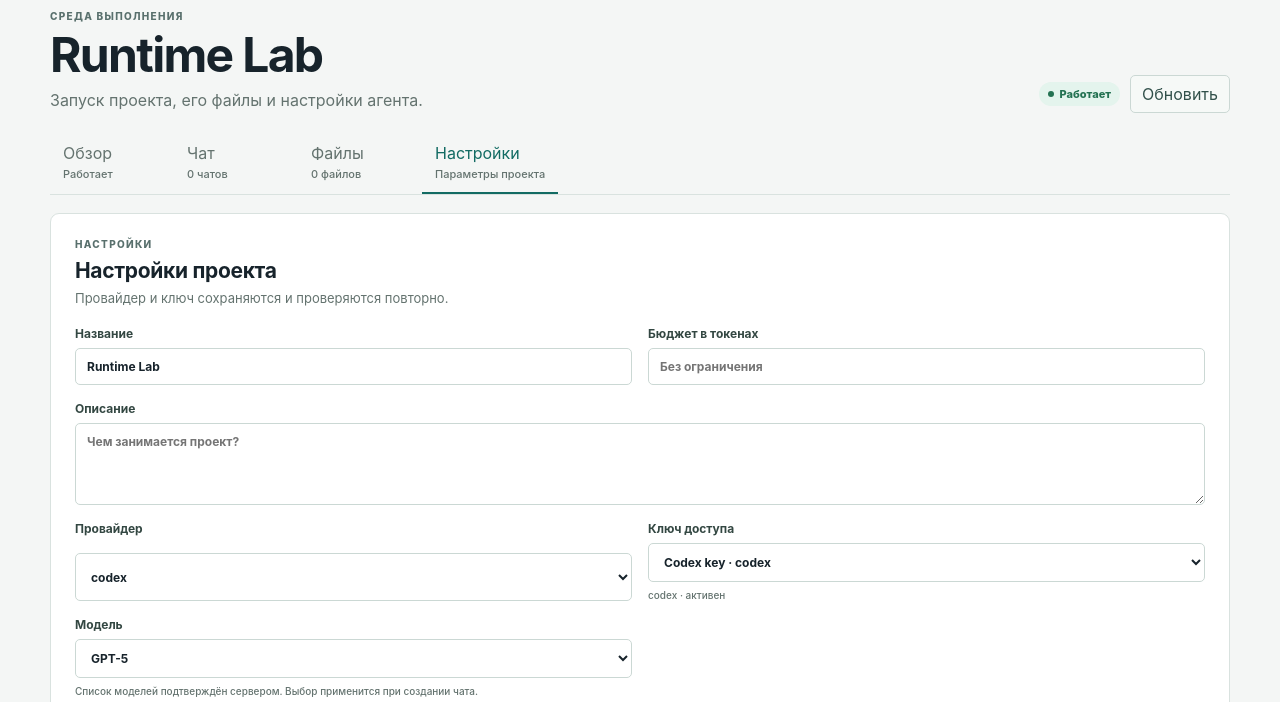
Test case: ProjectRuntime component workflow › requires an explicit live model choice before creating a new chat session
Later steps or results of the test are not shown.
Select "GPT-5" in the 3rd dropdown. click: (354, 659)
box: left=75, top=639, right=632, bottom=678
(page scrolled)
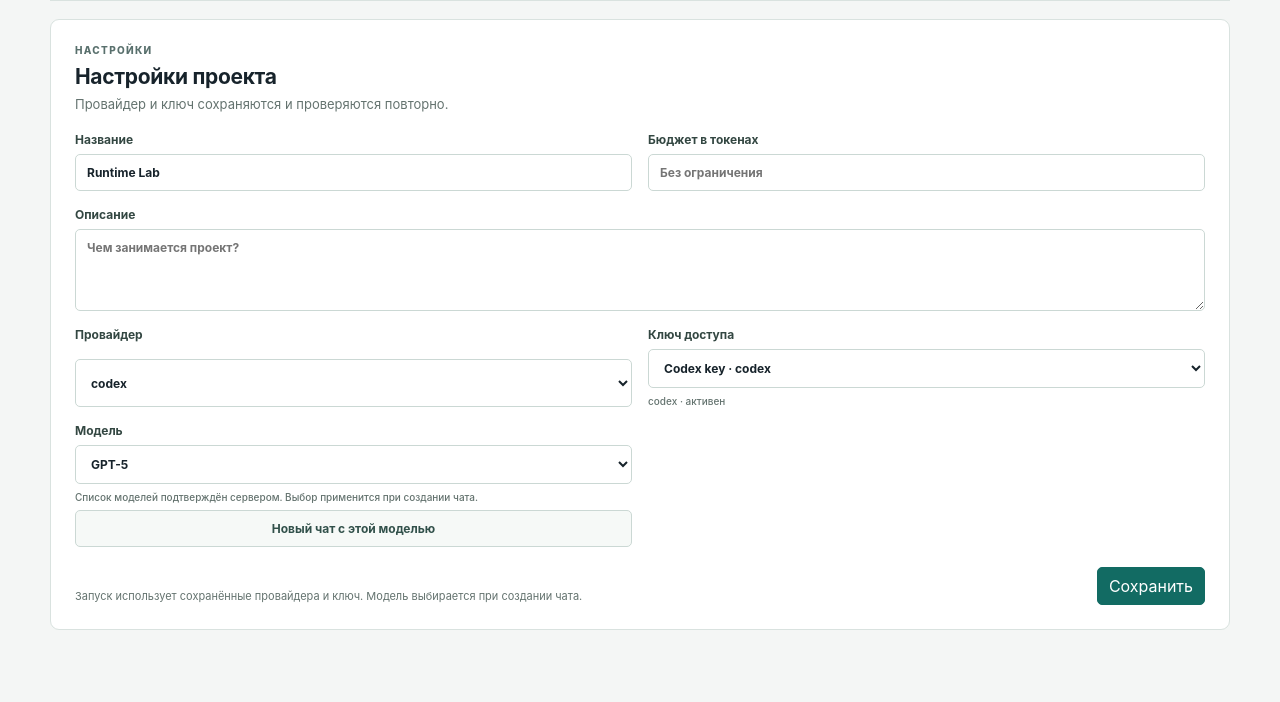
Expected: the button "Новый чат с этой моделью" is enabled
Click the button "Новый чат с этой моделью". click: (354, 529)
box: left=75, top=510, right=632, bottom=547
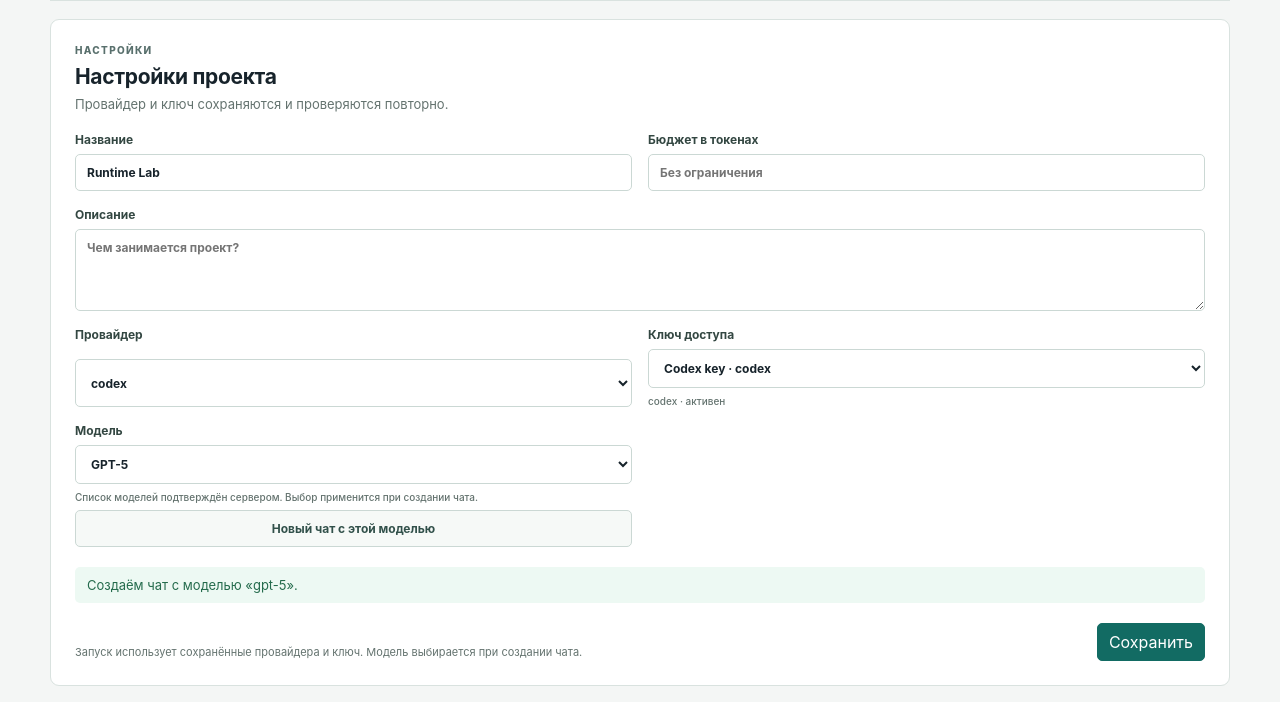
Expected: the text "Создаём чат с моделью «gpt-5»" is shown, left=87, top=577, right=298, bottom=593
